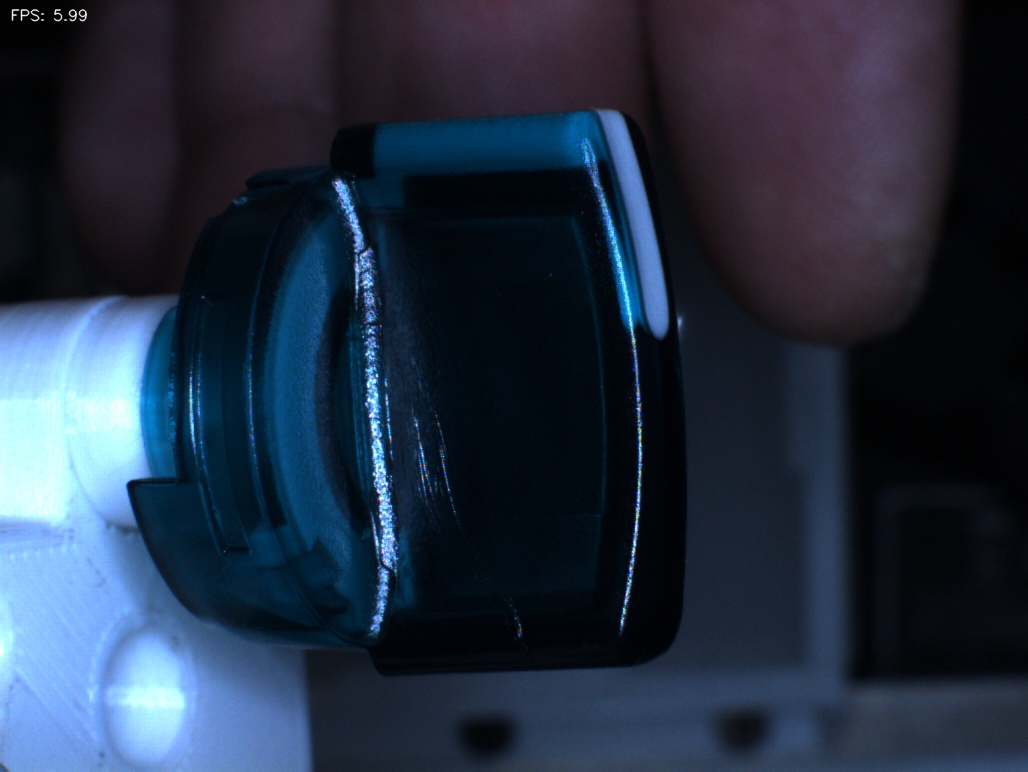Givrage: (390, 328, 542, 647)
